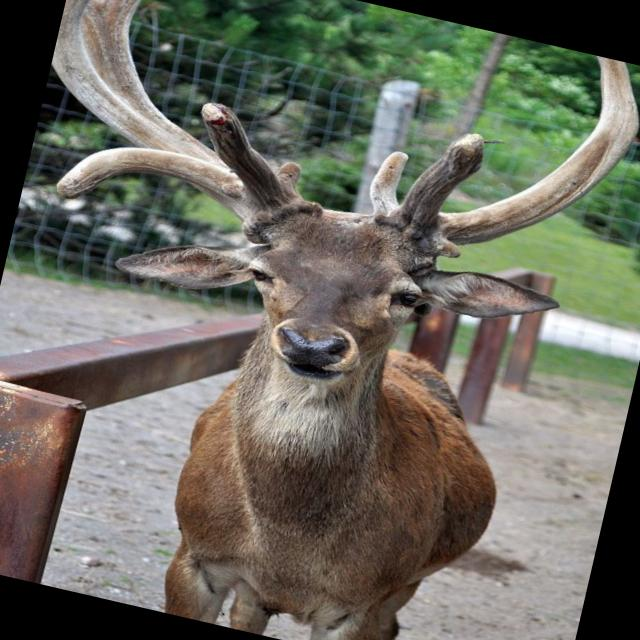deer: (17, 0, 640, 598)
